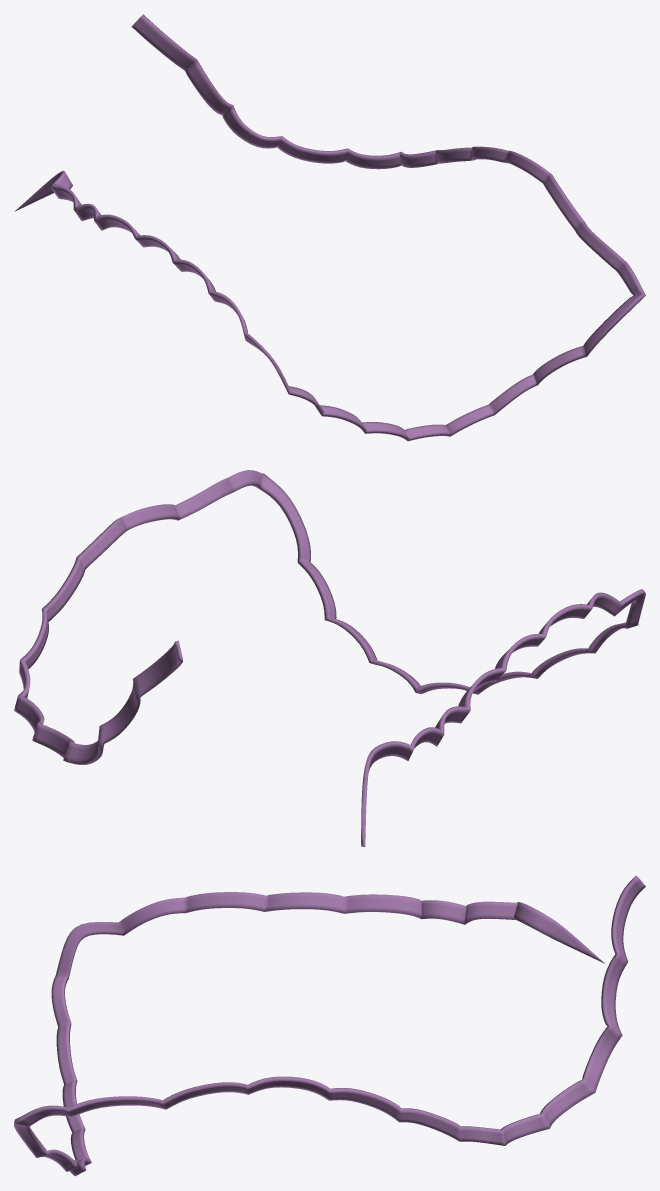
3 renders of one model, top to bottom at view 1: azimuth 30°, elevation 25°; view 2: azimuth 150°, elevation 25°; view 3: azimuth 270°, elevation 25°, orthographic. The views are drawn at different scales.
Parts seen in each view (by area): view 1: 独立带; view 2: 独立带; view 3: 独立带.
Part boxes in pixels (x1,y1,x2,y2): 独立带: (15,14,645,441); 独立带: (14,470,645,846); 独立带: (14,875,645,1176).
Size of the model in its own units: 0.2227 by 0.1384 by 0.2977.
